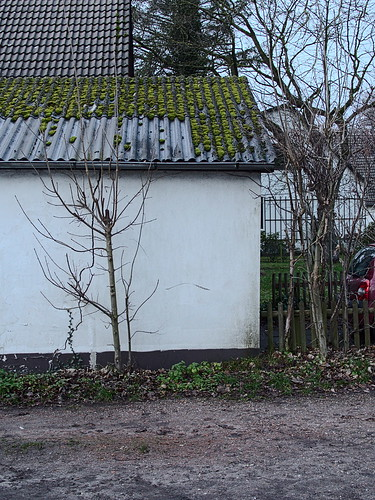building: (1, 1, 268, 354)
tree: (33, 83, 171, 361), (239, 1, 375, 251)
